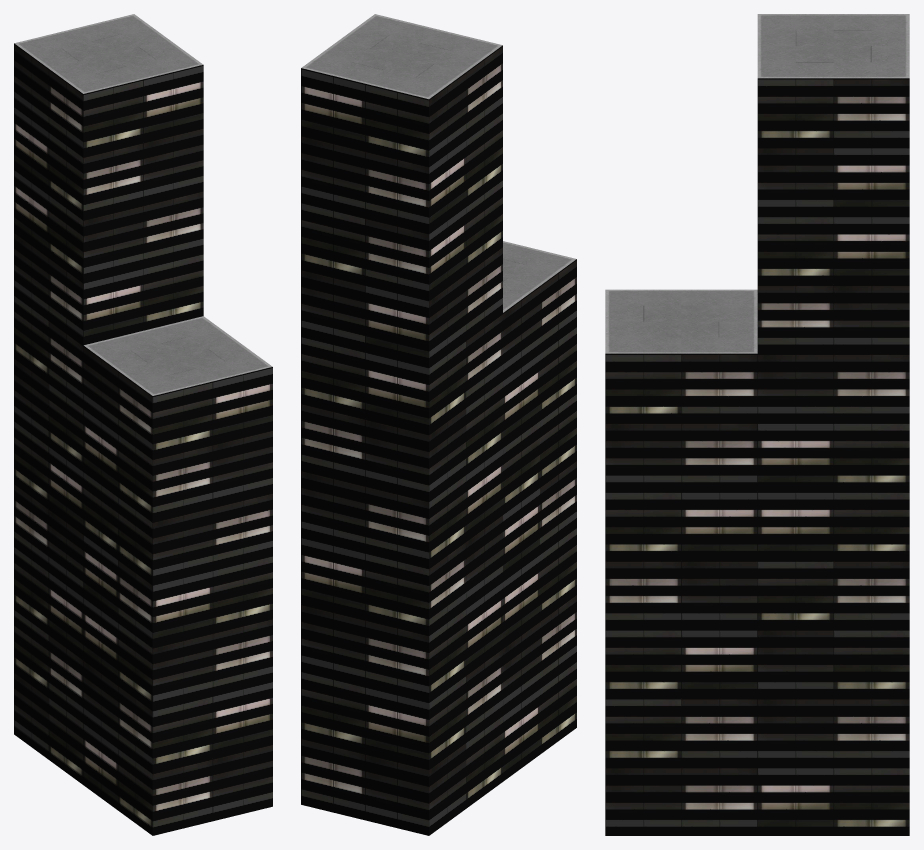
Rendered from Building_Double_Square.FBX.
3 renders of one model, left to right at view 1: azimuth 30°, elevation 25°; view 2: azimuth 150°, elevation 25°; view 3: azimuth 270°, elevation 25°, orthographic. The views are drawn at different scales.
Parts seen in each view (by area): view 1: Building_square2tier; view 2: Building_square2tier; view 3: Building_square2tier.
Boxes of the visible parts, box(x1,y1,x2,y2) form: Building_square2tier: box(14, 14, 272, 835); Building_square2tier: box(301, 14, 576, 835); Building_square2tier: box(605, 14, 909, 835).
Size of the model in its own units: 38.97 by 214 by 77.94.
